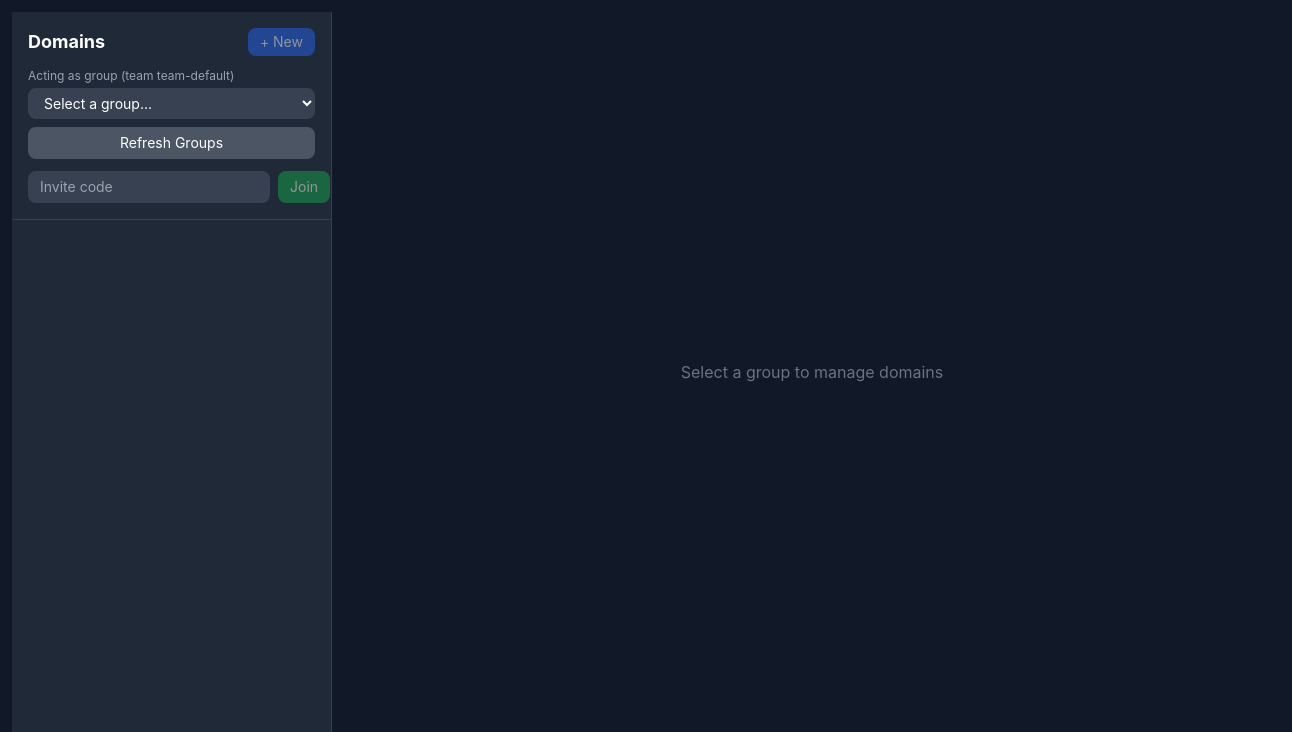
Slice 5: DomainsPage › shows an initiated collaboration task in the task list
Select "Alpha" in the dropdown at (172, 104), box [28,88,315,119]
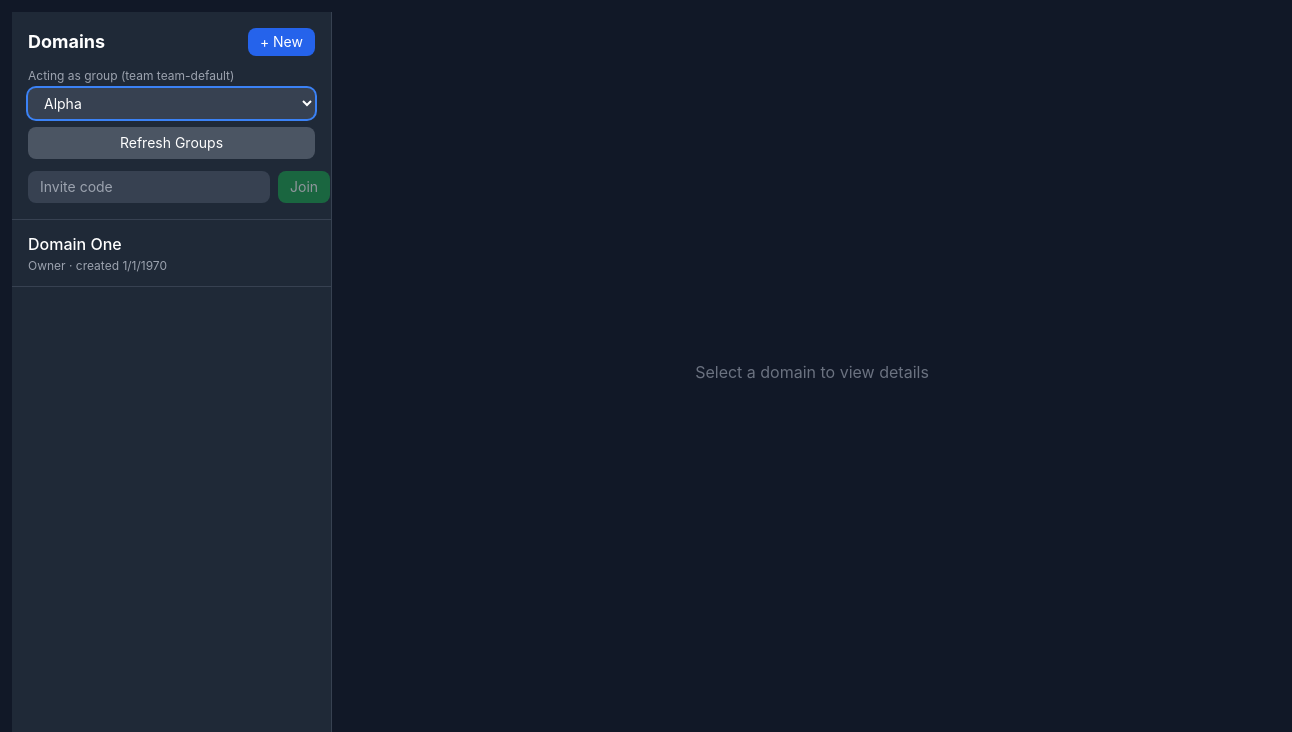
Result: the text "Domain One" is shown
Click the text "Domain One".
click(75, 244)  # box [28,234,122,254]
(page scrolled)
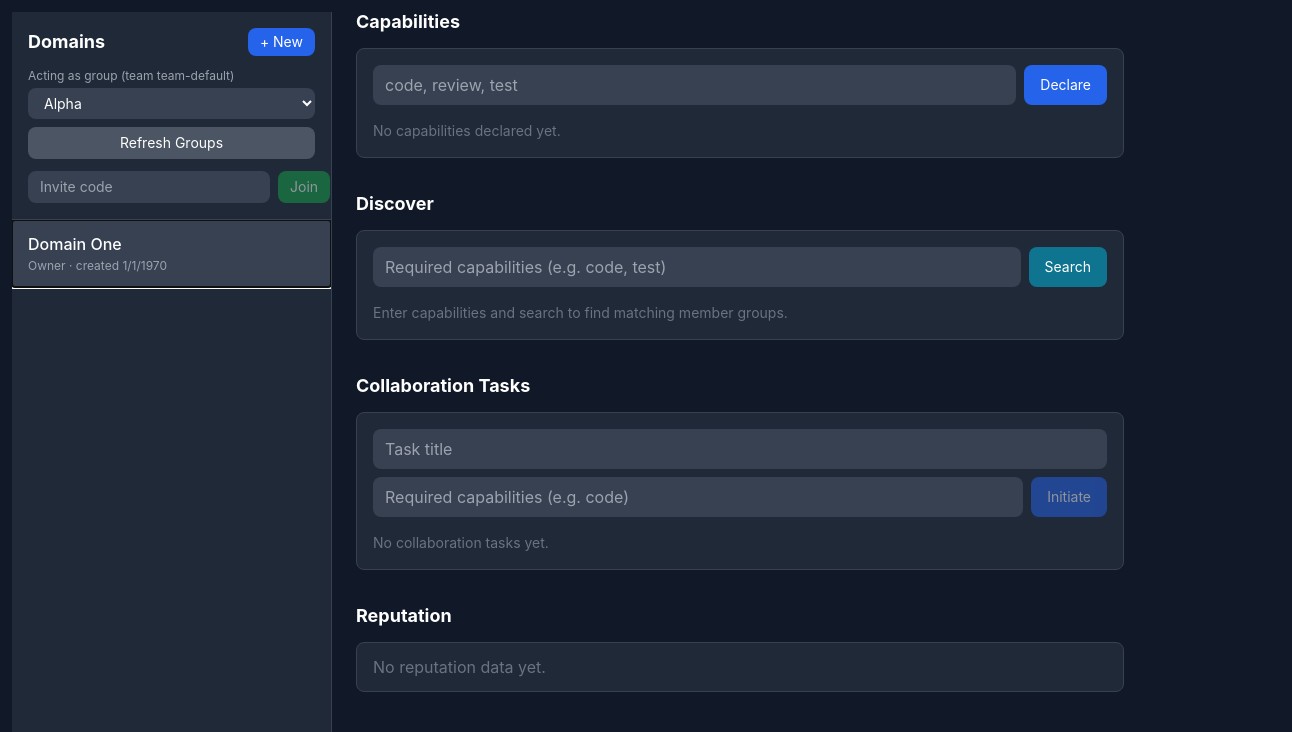
Result: the button "Initiate" is shown at [1031,477,1107,517]
Type "Build API" into the field with placeholder "Task title".
click(740, 449); type("Build API")  # box [373,429,1107,469]
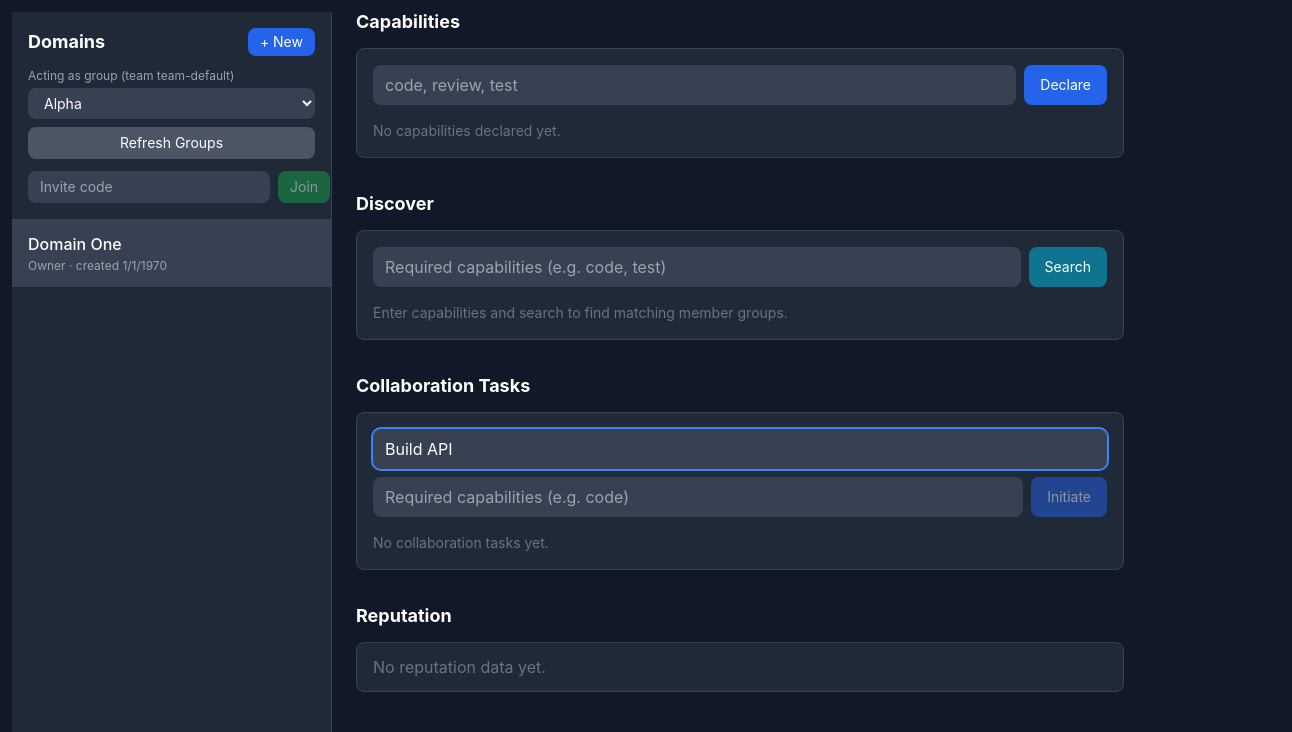
Type "code" into the field with placeholder "Required capabilities (e.g. code)".
click(698, 497); type("code")  # box [373,477,1023,517]
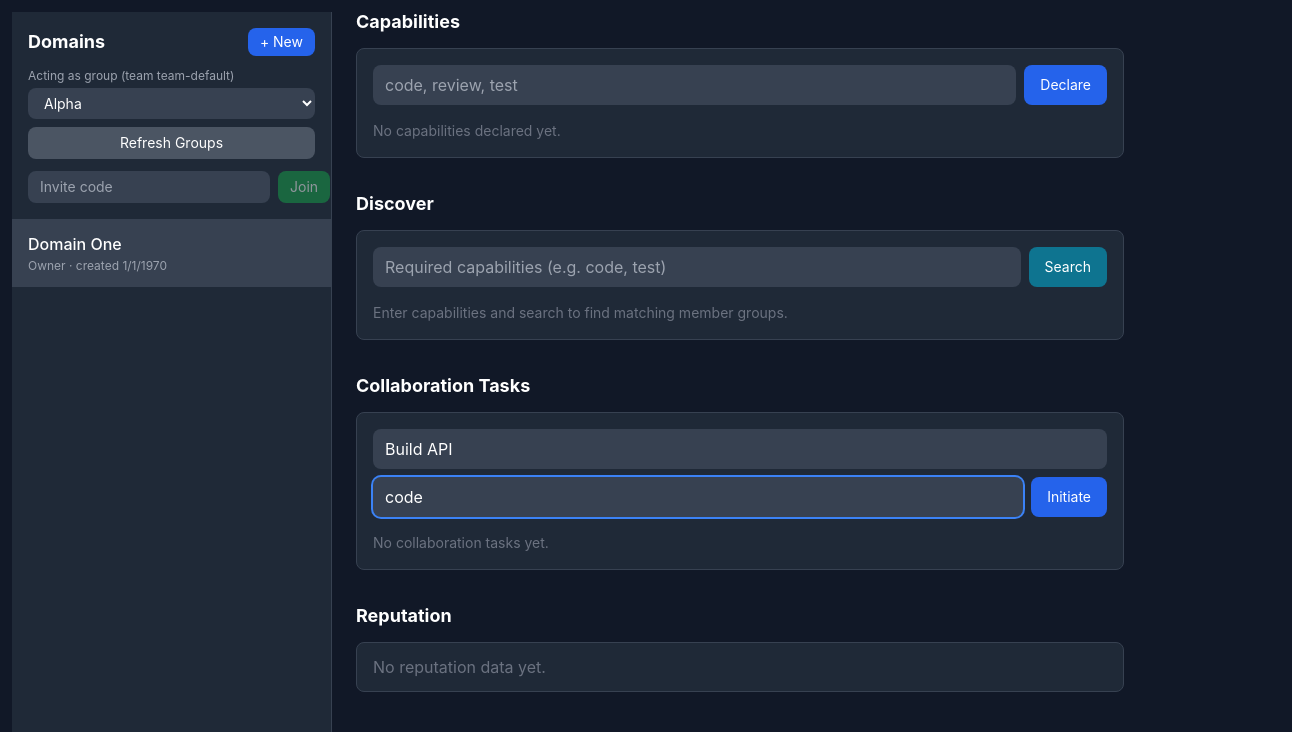
Click the button "Initiate".
click(1069, 497)  # box [1031,477,1107,517]
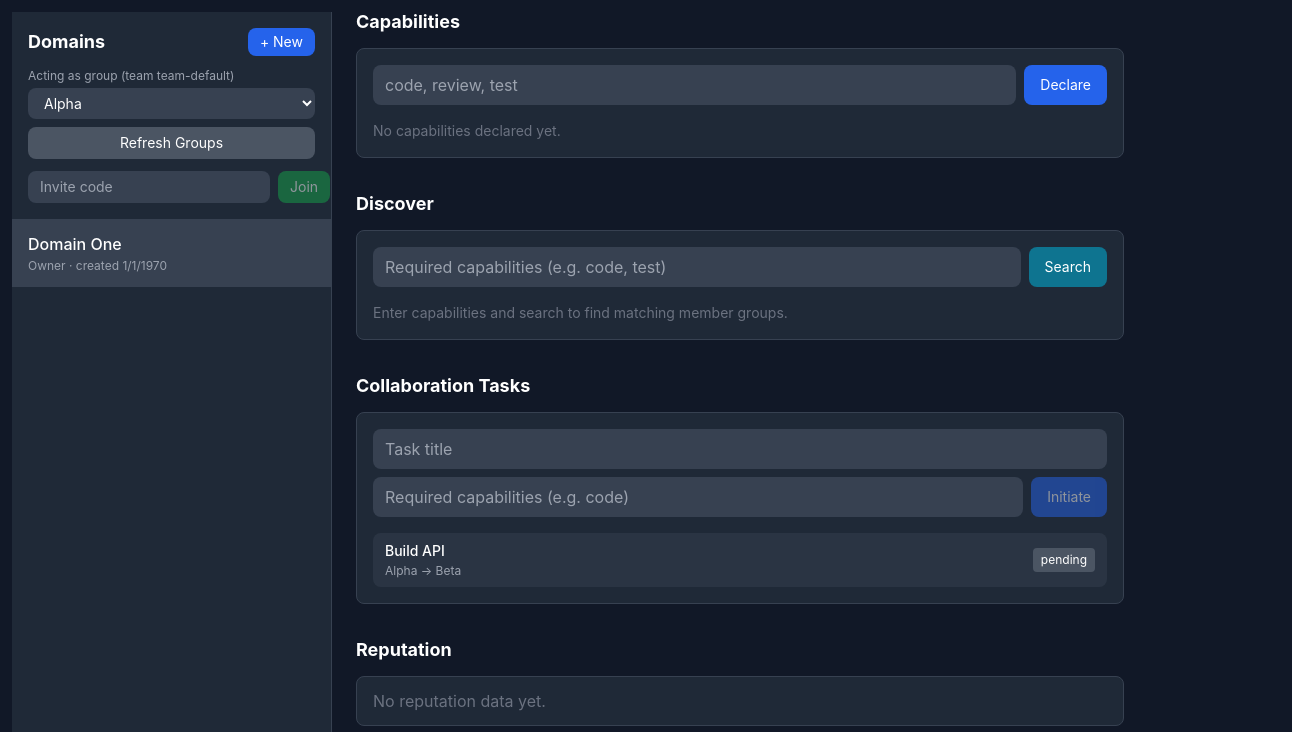
Result: the text "Build API" is shown at [385,542,445,559]
